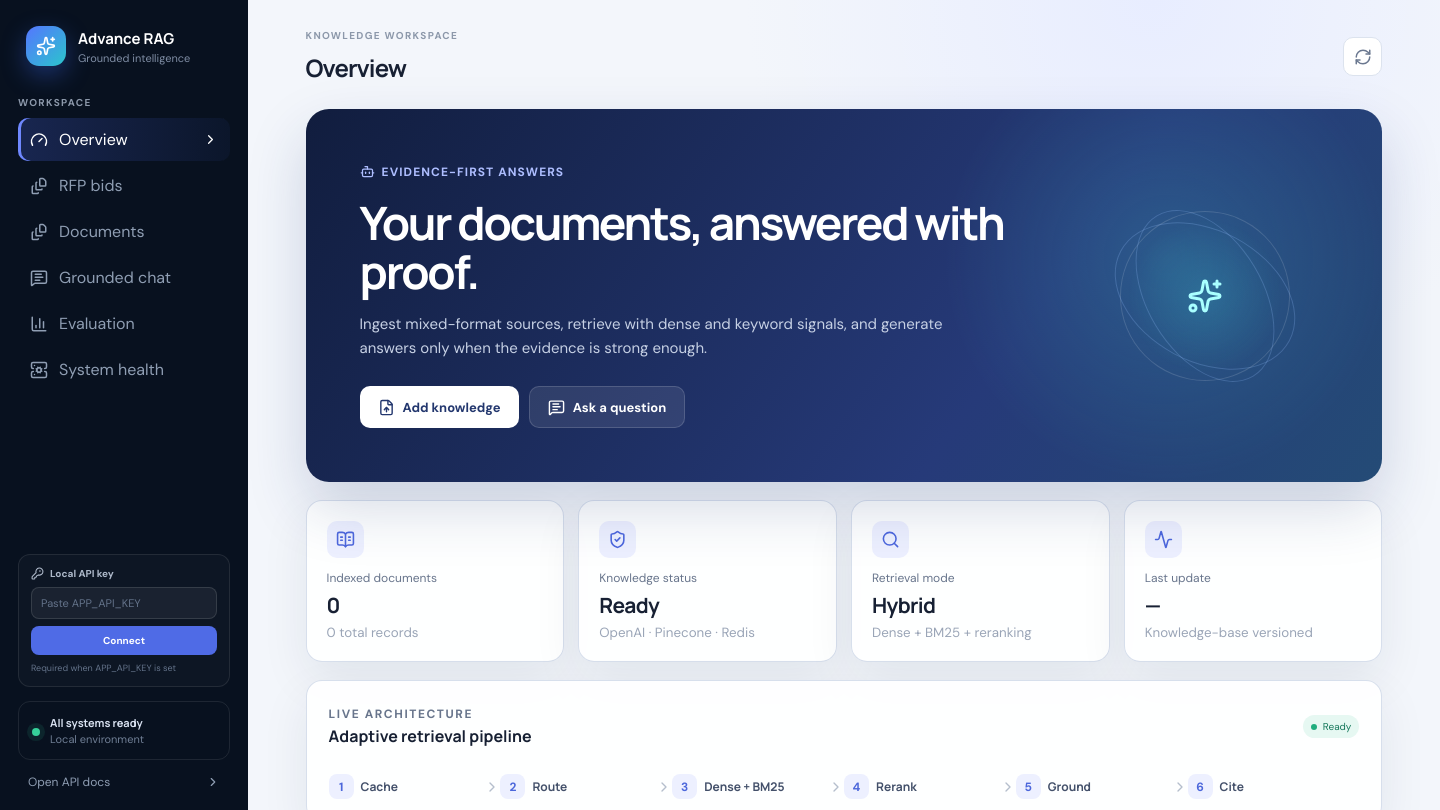
Test: Advance RAG app › enables bid chat when only the RFP knowledge base has active documents
Click the button "Grounded chat": (124, 278) x1=18 y1=256 x2=230 y2=299
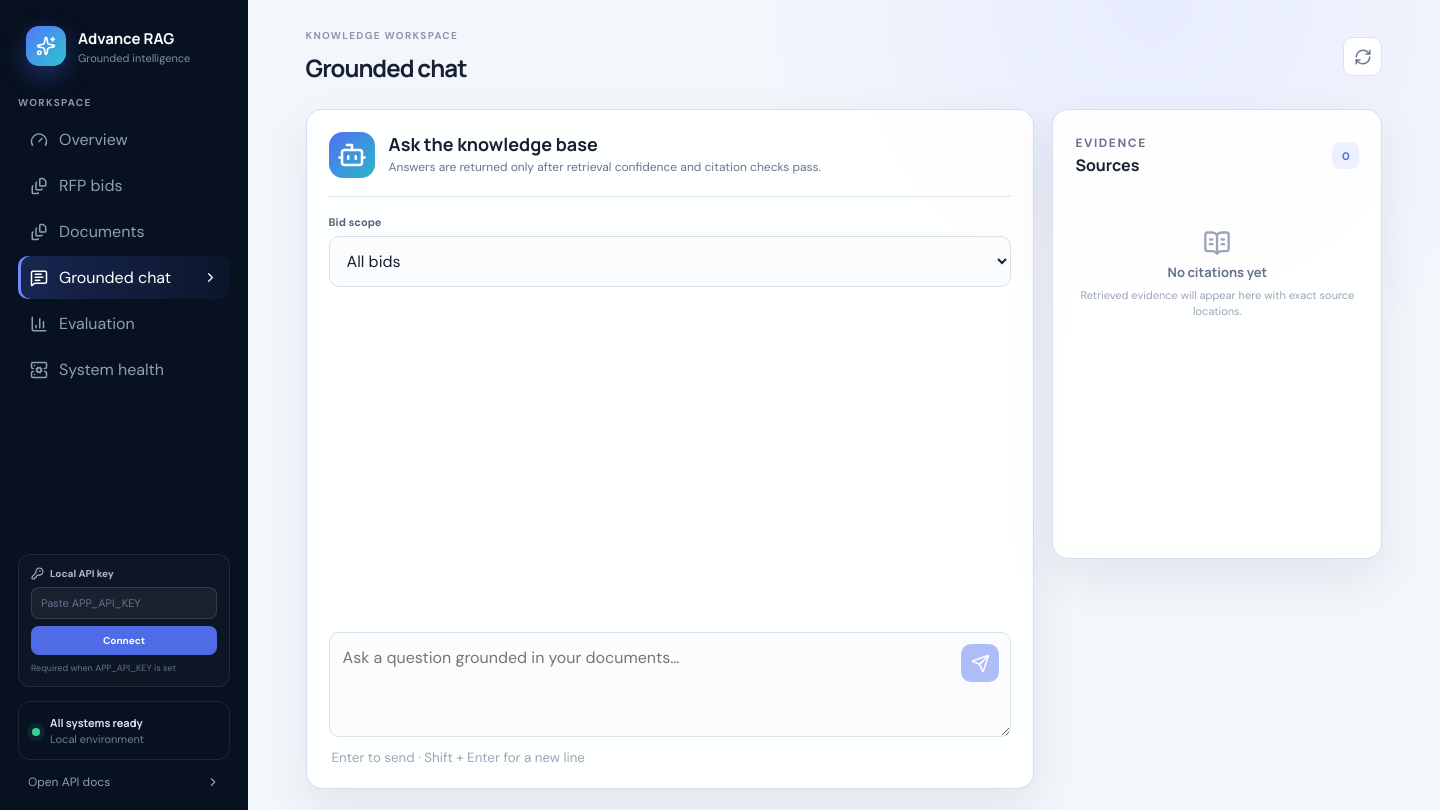
Expected: the text box with placeholder "Ask a question grounded in your documents…" is enabled, x1=329 y1=632 x2=1011 y2=737
